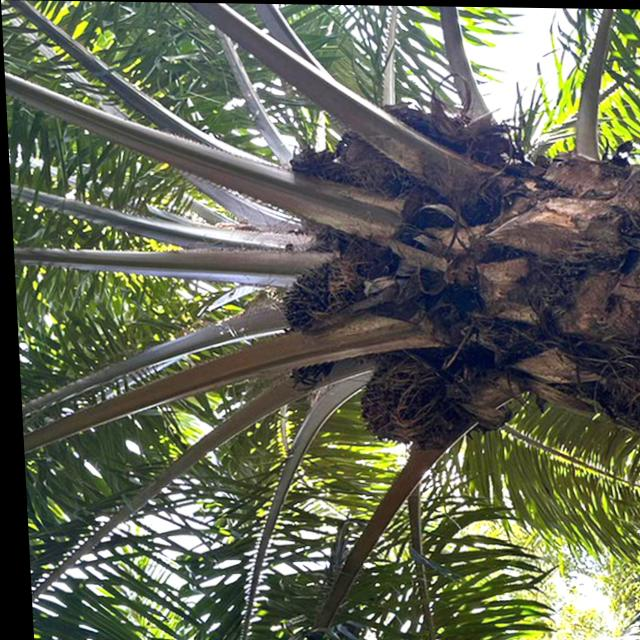unripe: (339, 352, 457, 455), (260, 255, 376, 344)
